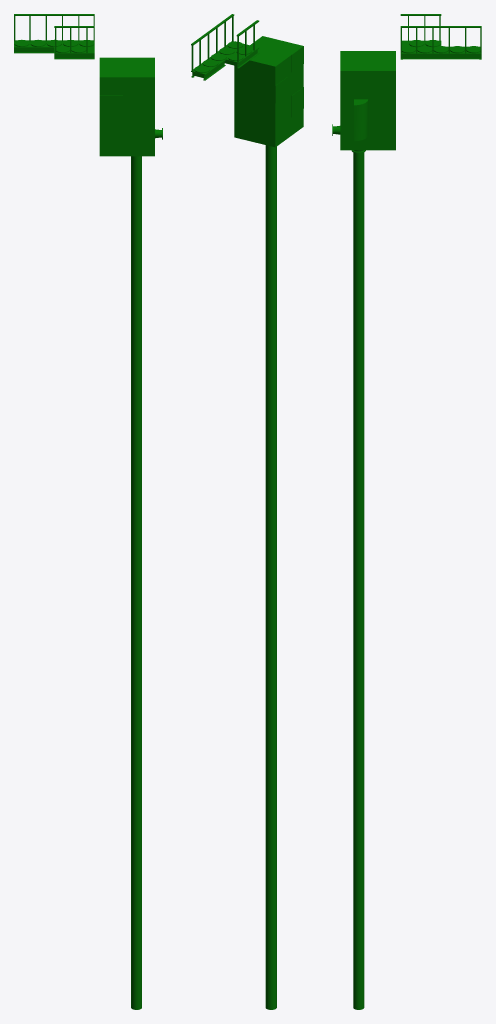
The model's file is Image-1710907554927-2281427725200_50-PH50A.fbx.
The picture shows the model from 3 angles, left to right: view 1: azimuth 90°, elevation 25°; view 2: azimuth 150°, elevation 25°; view 3: azimuth 270°, elevation 25°; orthographic projection. The views are drawn at different scales.
Parts seen in each view (by area): view 1: CYLINDER 1 of SUBEQUIPMENT /50-PH50A-PRIM, BOX 1 of SUBEQUIPMENT /50-PH50A/ENCLOSURE, BOX 3 of SUBEQUIPMENT /50-PH50A/ENCLOSURE, BOX 5 of SUBEQUIPMENT /50-PH50A/ENCLOSURE, BOX 4 of SUBEQUIPMENT /50-PH50A/ENCLOSURE; view 2: CYLINDER 1 of SUBEQUIPMENT /50-PH50A-PRIM, BOX 1 of SUBEQUIPMENT /50-PH50A/ENCLOSURE, BOX 3 of SUBEQUIPMENT /50-PH50A/ENCLOSURE; view 3: CYLINDER 1 of SUBEQUIPMENT /50-PH50A-PRIM, BOX 1 of SUBEQUIPMENT /50-PH50A/ENCLOSURE, RTORUS 1 of SUBEQUIPMENT /50-PH50A-MAIN, BOX 15 of SUBEQUIPMENT /50-PH50A-RACK.
Part boxes in pixels (x1,y1,x2,y2): CYLINDER 1 of SUBEQUIPMENT /50-PH50A-PRIM: (131,156,141,1009); BOX 1 of SUBEQUIPMENT /50-PH50A/ENCLOSURE: (99,57,154,156); BOX 3 of SUBEQUIPMENT /50-PH50A/ENCLOSURE: (131,117,154,138); BOX 5 of SUBEQUIPMENT /50-PH50A/ENCLOSURE: (99,95,122,113); BOX 4 of SUBEQUIPMENT /50-PH50A/ENCLOSURE: (131,77,154,94); CYLINDER 1 of SUBEQUIPMENT /50-PH50A-PRIM: (265,145,276,1009); BOX 1 of SUBEQUIPMENT /50-PH50A/ENCLOSURE: (234,36,303,147); BOX 3 of SUBEQUIPMENT /50-PH50A/ENCLOSURE: (291,87,303,116); CYLINDER 1 of SUBEQUIPMENT /50-PH50A-PRIM: (353,150,364,1009); BOX 1 of SUBEQUIPMENT /50-PH50A/ENCLOSURE: (340,51,395,150); RTORUS 1 of SUBEQUIPMENT /50-PH50A-MAIN: (354,99,368,141); BOX 15 of SUBEQUIPMENT /50-PH50A-RACK: (400,54,481,58).
Size of the model in its own units: 2.56 by 6.22 by 45.44.
